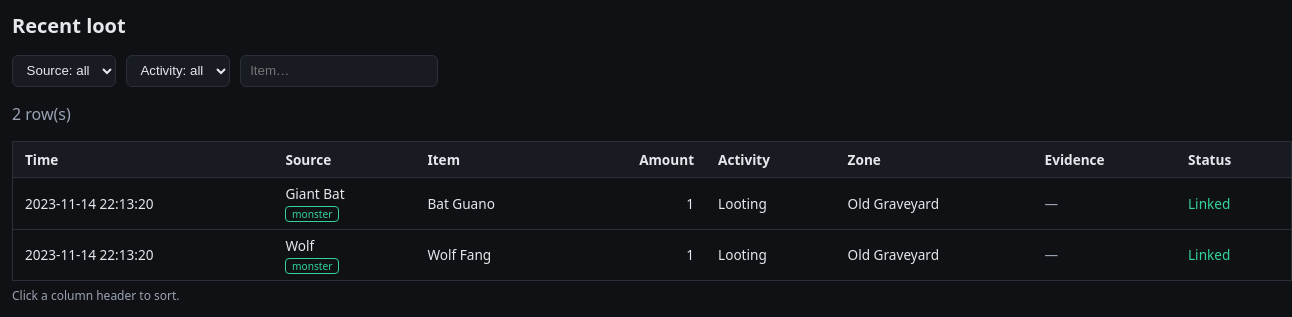
Test: LootPublic › renders loot rows and filters by source
The width and height of the screenshot is (1292, 317).
Check: the text "Bat Guano" is shown, box [415,177,571,229]
Check: the text "Wolf Fang" is shown, box [415,229,571,281]
Step 1. Select "Giant Bat" in the dropdown titled "Source" → x=64, y=71, box [12,55,116,87]
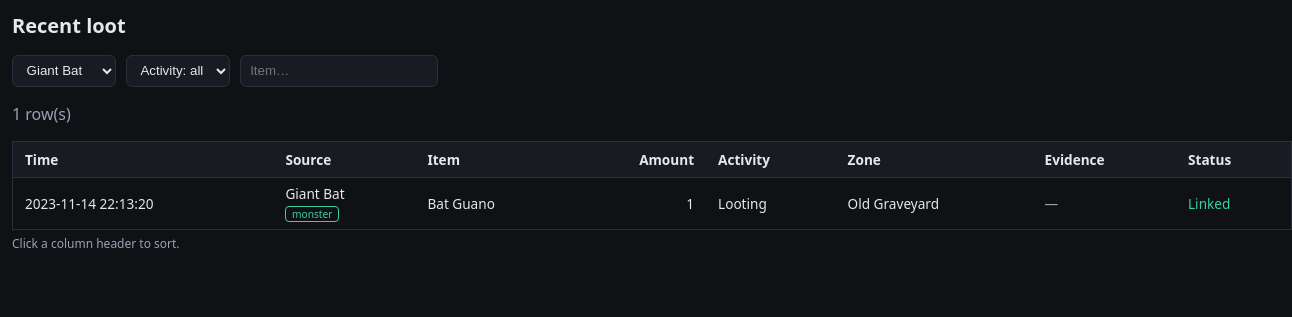
Check: the text "1 row(s)" is shown, box [12,103,71,125]
Check: the text "Wolf Fang" is gone
